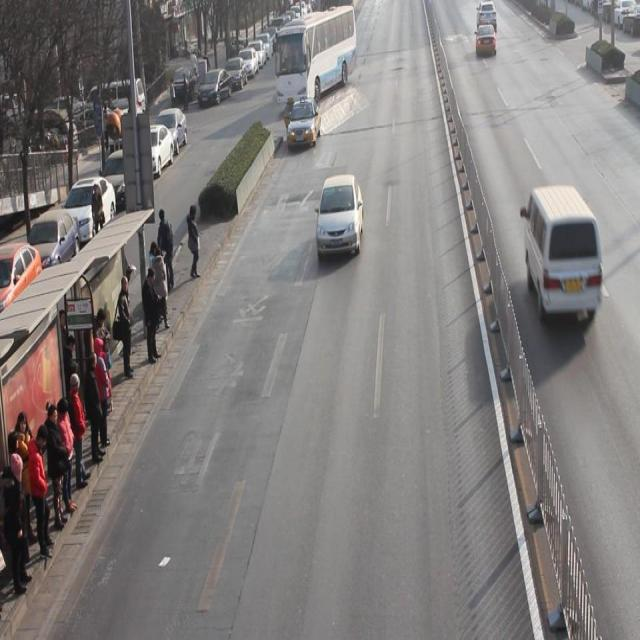car: (316, 174, 364, 258), (287, 99, 322, 150), (475, 22, 496, 57)
truck: (526, 188, 603, 328)
van: (275, 8, 357, 98)
